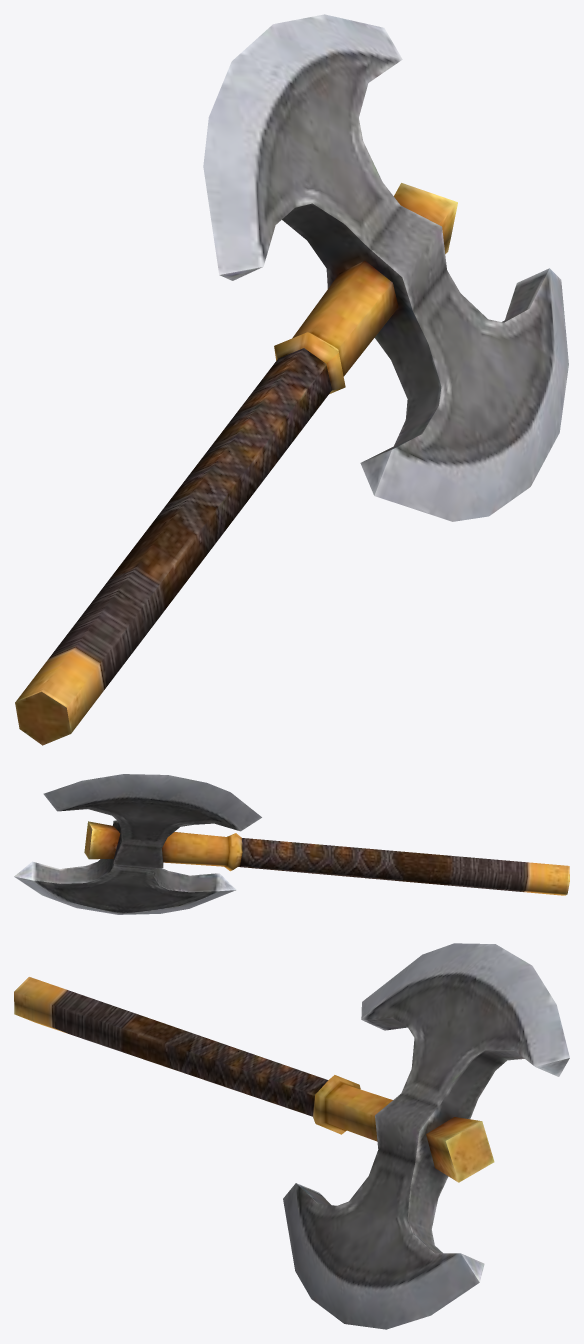
The model's file is weapon-base.glb.
3 renders of one model, top to bottom at view 1: azimuth 30°, elevation 25°; view 2: azimuth 150°, elevation 25°; view 3: azimuth 270°, elevation 25°, orthographic. The views are drawn at different scales.
Bounding box in the file's own units: 1.49 × 0.6959 × 1.14.
1 material, 1 textured.
